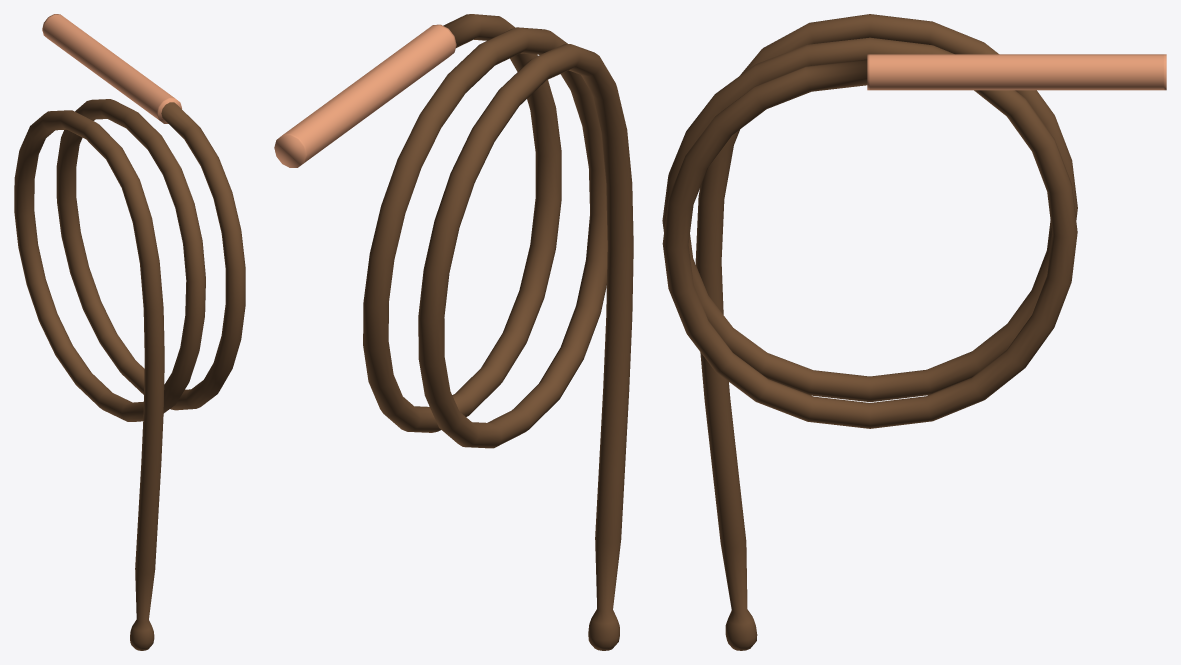
The model's file is Tool_Whip.fbx.
3 views of the same model, side by side, from view 1: azimuth 30°, elevation 25°; view 2: azimuth 150°, elevation 25°; view 3: azimuth 270°, elevation 25° (orthographic). The views are drawn at different scales.
Parts seen in each view (by area): view 1: Tool_Whip; view 2: Tool_Whip; view 3: Tool_Whip.
Part boxes in pixels (x1,y1,x2,y2): Tool_Whip: (14, 14, 245, 650); Tool_Whip: (274, 14, 633, 650); Tool_Whip: (662, 14, 1166, 650).
Bounding box in the file's own units: 22.83 × 109 × 77.62.
